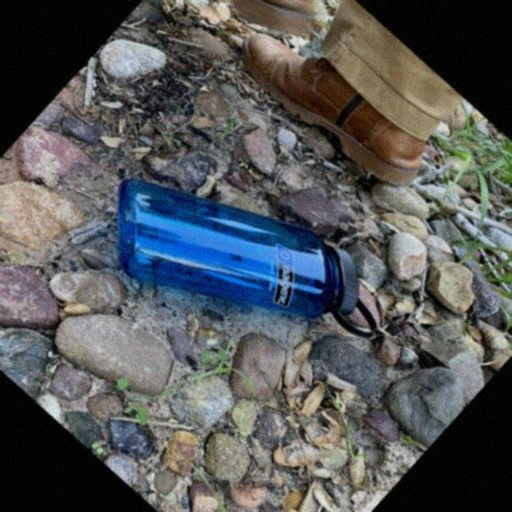bottle: (76, 108, 402, 424)
